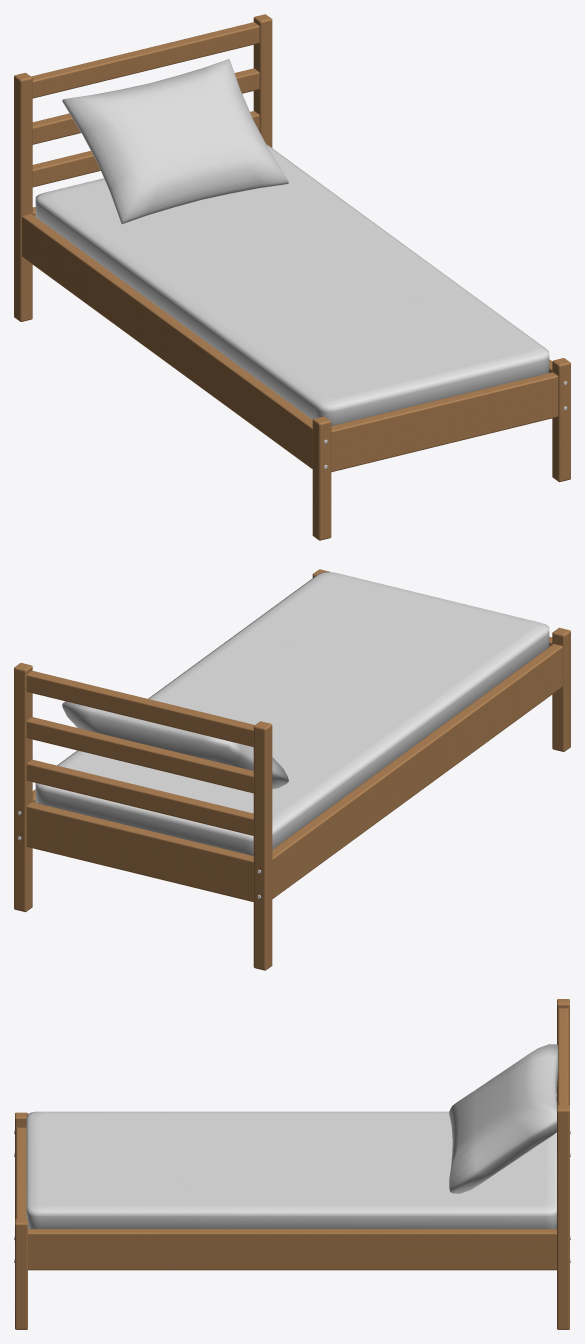
Rendered from single-bed.glb.
3 views of the same model, one above another, from view 1: azimuth 30°, elevation 25°; view 2: azimuth 150°, elevation 25°; view 3: azimuth 270°, elevation 25° (orthographic). The views are drawn at different scales.
Parts seen in each view (by area): view 1: Object_3, Object_2, Object_4; view 2: Object_3, Object_2, Object_4; view 3: Object_3, Object_2, Object_4.
Part boxes in pixels (left/top/right/bottom): Object_3: left=35, top=144, right=549, bottom=425; Object_2: left=14, top=14, right=570, bottom=540; Object_4: left=62, top=59, right=288, bottom=224; Object_3: left=35, top=572, right=549, bottom=855; Object_2: left=14, top=569, right=570, bottom=970; Object_4: left=62, top=701, right=288, bottom=788; Object_3: left=26, top=1111, right=556, bottom=1228; Object_2: left=14, top=999, right=570, bottom=1329; Object_4: left=449, top=1044, right=558, bottom=1193.
Size of the model in its own units: 1 by 0.9185 by 2.11.
Materials: 3 (3 with a texture image).
